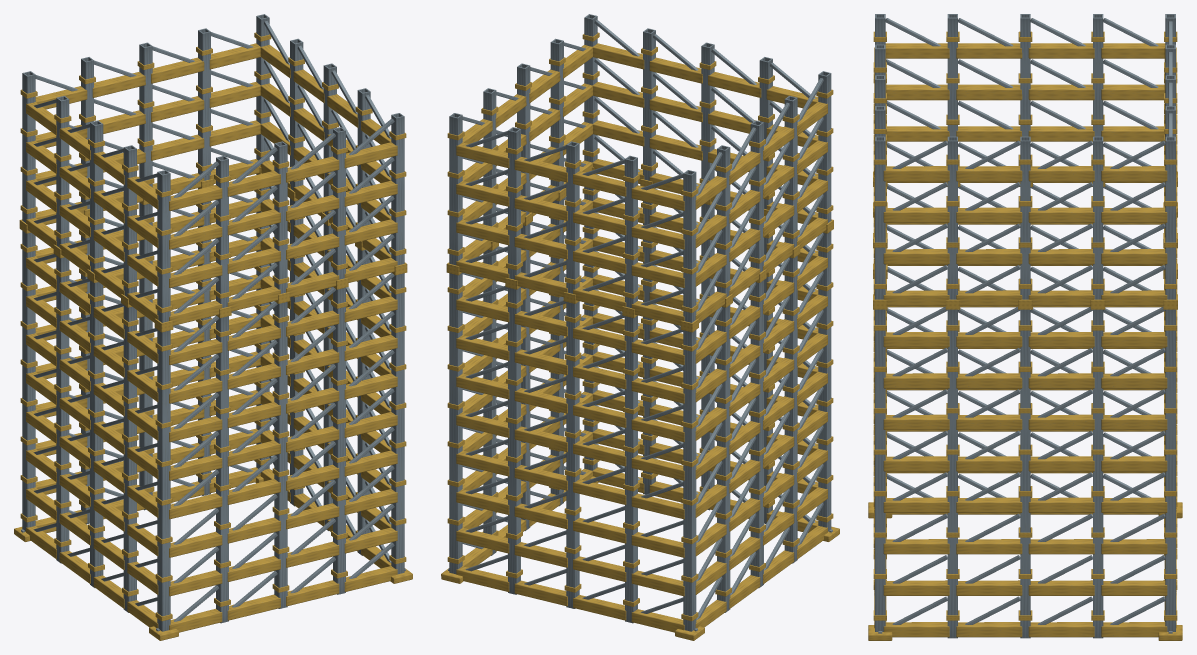
3 views of the same model, side by side, from view 1: azimuth 30°, elevation 25°; view 2: azimuth 150°, elevation 25°; view 3: azimuth 270°, elevation 25° (orthographic). The views are drawn at different scales.
Parts seen in each view (by area): view 1: Tier 0 side 0 post 0, Tier 0 side 1 post 0, Tier 0 side 0 post 2, Tier 0 side 0 post 3, Tier 0 side 0 post 1, Tier 0 side 3 post 3, Tier 0 side 3 post 0, Tier 0 side 3 post 1, Tier 0 side 3 post 2, Tier 1 side 0 post 0, Tier 1 side 1 post 0, Tier 0 side 2 post 2 (+76 smaller); view 2: Tier 0 side 3 post 0, Tier 0 side 2 post 0, Tier 0 side 2 post 2, Tier 0 side 2 post 3, Tier 0 side 2 post 1, Tier 0 side 3 post 1, Tier 0 side 0 post 0, Tier 0 side 3 post 3, Tier 0 side 3 post 2, Tier 1 side 3 post 0, Tier 1 side 2 post 0, Tier 1 side 2 post 2 (+77 smaller); view 3: Tier 0 side 1 post 0, Tier 0 side 2 post 0, Tier 0 side 1 post 1, Tier 0 side 1 post 3, Tier 0 side 1 post 2, Tier 1 side 1 post 0, Tier 1 side 2 post 0, Tier 1 side 1 post 1, Tier 1 side 1 post 3, Tier 1 side 1 post 2, Tier 1 side 3 post 3, Tier 1 side 3 post 1 (+61 smaller).
Boxes of the visible parts, x1=… form: Tier 0 side 0 post 0: x1=157, y1=329, x2=170, y2=631; Tier 0 side 1 post 0: x1=391, y1=273, x2=404, y2=574; Tier 0 side 0 post 2: x1=274, y1=302, x2=287, y2=608; Tier 0 side 0 post 3: x1=333, y1=287, x2=345, y2=594; Tier 0 side 0 post 1: x1=216, y1=316, x2=228, y2=623; Tier 0 side 3 post 3: x1=123, y1=305, x2=136, y2=612; Tier 0 side 3 post 0: x1=22, y1=231, x2=35, y2=531; Tier 0 side 3 post 1: x1=56, y1=256, x2=69, y2=563; Tier 0 side 3 post 2: x1=90, y1=280, x2=103, y2=587; Tier 1 side 0 post 0: x1=157, y1=170, x2=170, y2=322; Tier 1 side 1 post 0: x1=391, y1=113, x2=404, y2=265; Tier 0 side 2 post 2: x1=139, y1=202, x2=152, y2=510; Tier 0 side 3 post 0: x1=683, y1=330, x2=696, y2=631; Tier 0 side 2 post 0: x1=449, y1=273, x2=462, y2=574; Tier 0 side 2 post 2: x1=566, y1=301, x2=579, y2=608; Tier 0 side 2 post 3: x1=624, y1=315, x2=637, y2=623; Tier 0 side 2 post 1: x1=508, y1=287, x2=520, y2=594; Tier 0 side 3 post 1: x1=717, y1=305, x2=730, y2=612; Tier 0 side 0 post 0: x1=818, y1=231, x2=831, y2=531; Tier 0 side 3 post 3: x1=784, y1=256, x2=797, y2=563; Tier 0 side 3 post 2: x1=750, y1=280, x2=763, y2=587; Tier 1 side 3 post 0: x1=683, y1=170, x2=696, y2=322; Tier 1 side 2 post 0: x1=449, y1=113, x2=462, y2=265; Tier 1 side 2 post 2: x1=566, y1=141, x2=579, y2=293; Tier 0 side 1 post 0: x1=875, y1=309, x2=885, y2=631; Tier 0 side 2 post 0: x1=1165, y1=309, x2=1175, y2=631; Tier 0 side 1 post 1: x1=947, y1=309, x2=957, y2=638; Tier 0 side 1 post 3: x1=1093, y1=309, x2=1103, y2=638; Tier 0 side 1 post 2: x1=1020, y1=309, x2=1030, y2=638; Tier 1 side 1 post 0: x1=875, y1=136, x2=885, y2=299; Tier 1 side 2 post 0: x1=1165, y1=136, x2=1175, y2=299; Tier 1 side 1 post 1: x1=947, y1=136, x2=957, y2=299; Tier 1 side 1 post 3: x1=1093, y1=136, x2=1103, y2=299; Tier 1 side 1 post 2: x1=1020, y1=136, x2=1030, y2=299; Tier 1 side 3 post 3: x1=947, y1=14, x2=957, y2=136; Tier 1 side 3 post 1: x1=1093, y1=14, x2=1103, y2=136.
Size of the model in its own units: 1.95 by 3.4 by 1.95.
Materials: 2 (2 with a texture image).
